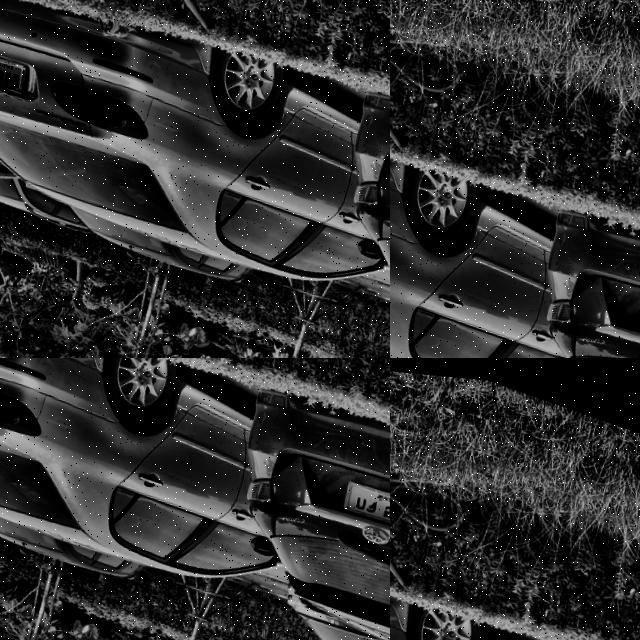license-plate: (0, 514, 152, 640)
